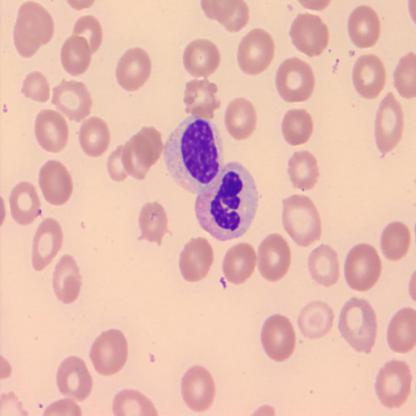Metamyelocyte: (161, 111, 228, 197)
